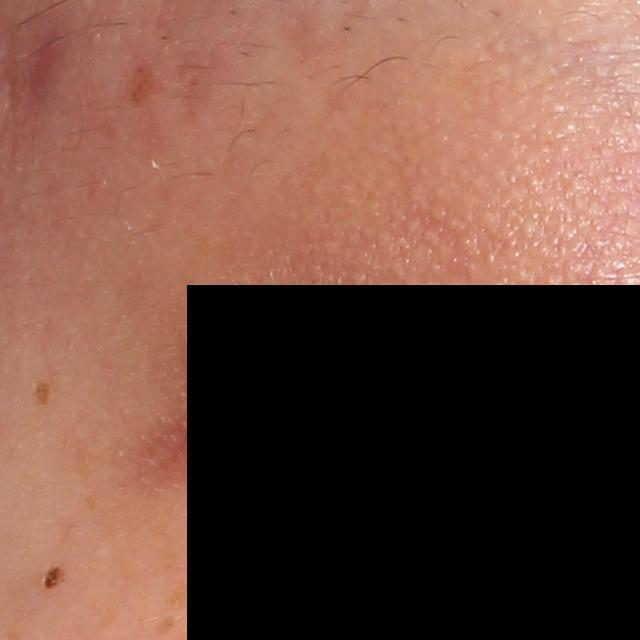melasma: (127, 52, 169, 105), (34, 379, 56, 404), (155, 612, 177, 637)
nevus: (39, 561, 69, 592)
